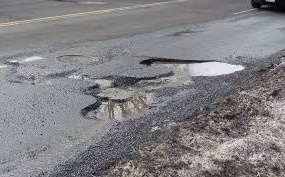pothole: (214, 88, 279, 175), (73, 79, 158, 123), (170, 119, 212, 177), (133, 57, 250, 77), (114, 145, 164, 177), (4, 71, 76, 87), (55, 51, 102, 67), (6, 51, 48, 64)
